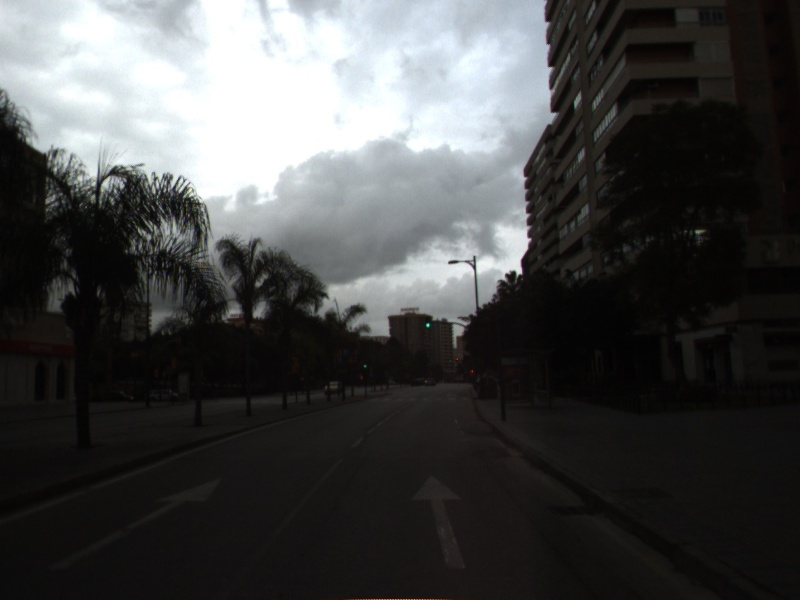STRAIGHT: (44, 472, 227, 574), (407, 472, 469, 572)
